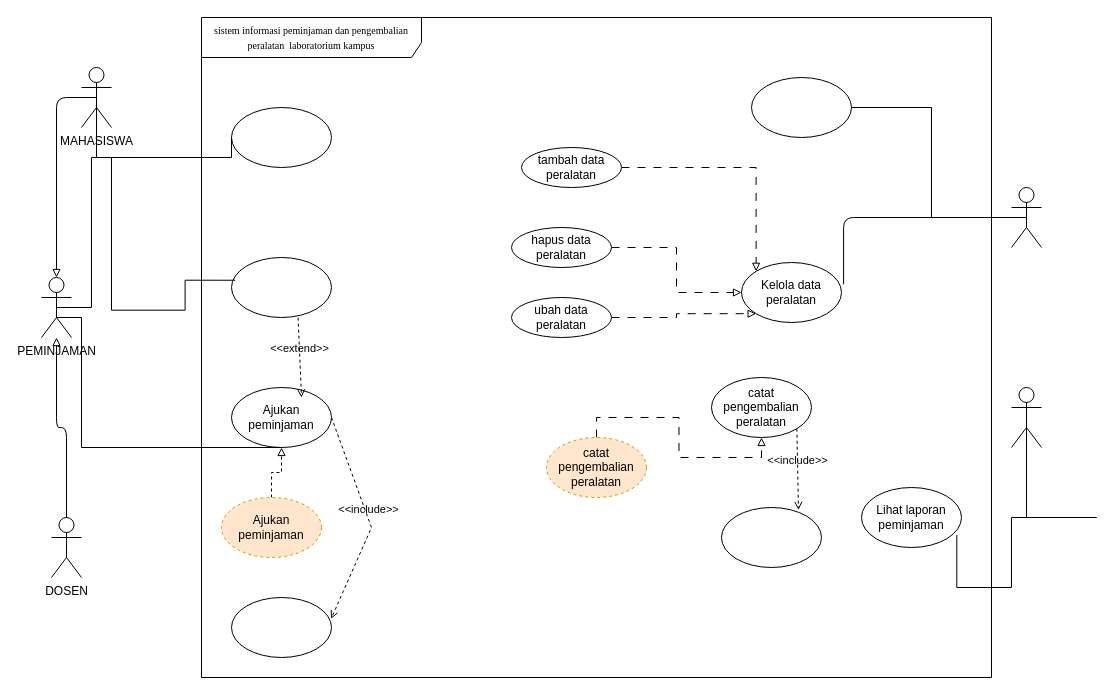
The diagram is 1115 pixels wide and 695 high, and some of its shapes have lost their labels. Here are the shapes that lost their labels. From the top down, the box of each, then its label:
(750, 76, 852, 138): Proses keputusan peminjaman
(230, 106, 332, 168): Lihat ketersediaan peralatan
(1010, 186, 1042, 248): PETUGAS LABORAN
(230, 256, 332, 318): Cetak bukti pengajuan
(1010, 386, 1042, 448): KEPALA LABORAN
(720, 506, 822, 568): periksa kondisi peralatan
(230, 596, 332, 658): Periksa ketersediaan
